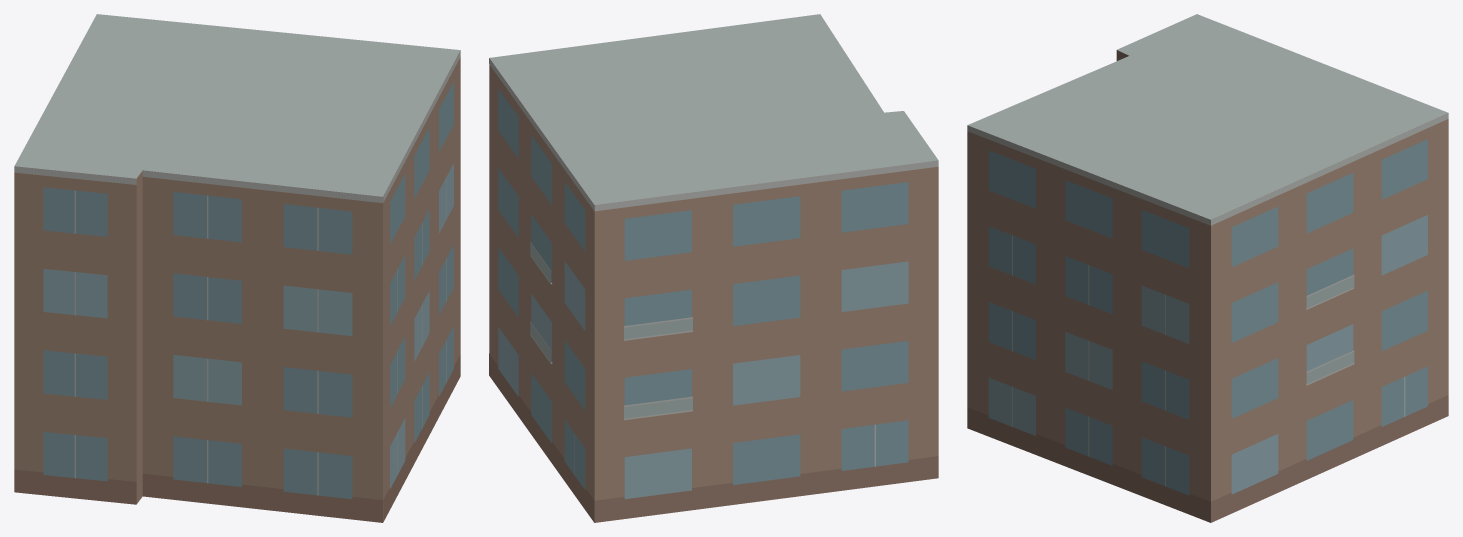
The model's file is survey-upis-32669059.glb.
3 views of the same model, side by side, from view 1: azimuth 30°, elevation 25°; view 2: azimuth 150°, elevation 25°; view 3: azimuth 270°, elevation 25° (orthographic). The views are drawn at different scales.
Visible parts, largest first — view 1: survey-upis-32669059.tmp; view 2: survey-upis-32669059.tmp; view 3: survey-upis-32669059.tmp.
Part boxes in pixels (x1,y1,x2,y2): survey-upis-32669059.tmp: (14, 14, 460, 522); survey-upis-32669059.tmp: (489, 14, 938, 522); survey-upis-32669059.tmp: (967, 14, 1448, 522).
Size of the model in its own units: 18.22 by 12.5 by 18.
